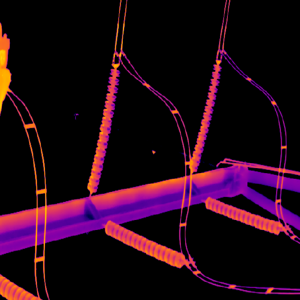insulator: (86, 66, 121, 193), (104, 218, 184, 268), (188, 64, 221, 172), (204, 195, 280, 236), (0, 273, 43, 300)
